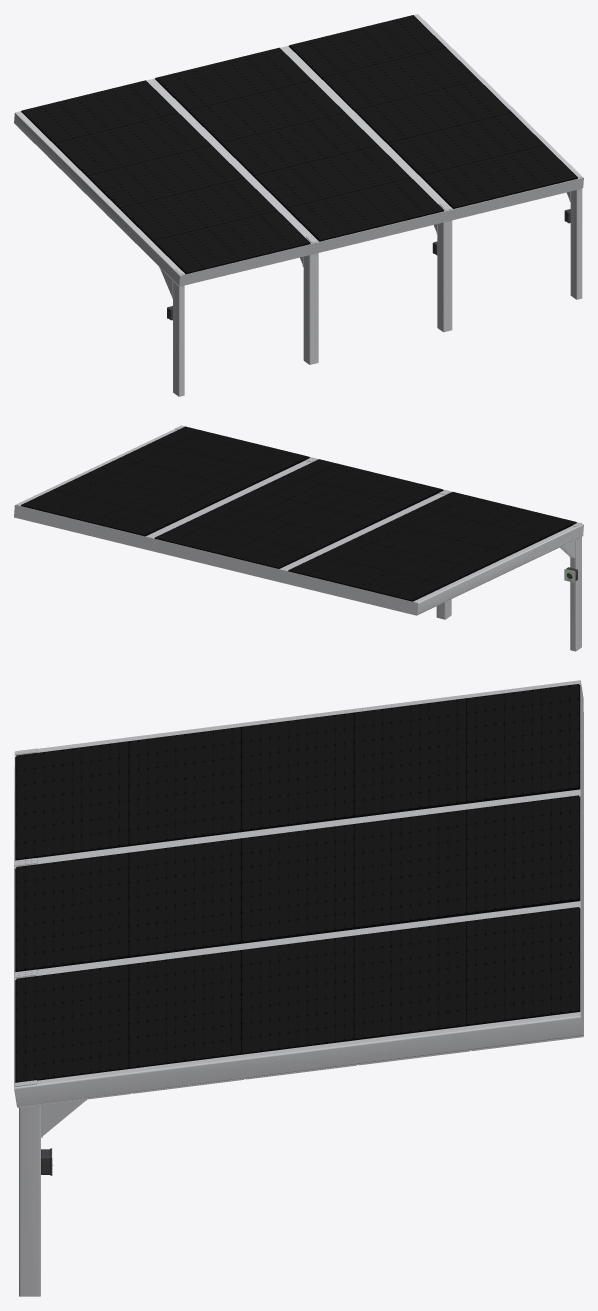
Rendered from Cap_3.glb.
The picture shows the model from 3 angles, top to bottom: view 1: azimuth 30°, elevation 25°; view 2: azimuth 150°, elevation 25°; view 3: azimuth 270°, elevation 25°; orthographic projection. The views are drawn at different scales.
Parts seen in each view (by area): view 1: Left.083, Middle.045, Middle.041, Right.010; view 2: Left.083, Middle.041, Middle.045, Right.010; view 3: Middle.045, Middle.041, Left.083, Right.010.
Boxes of the visible parts, x1,y1,x2,y2 form: Left.083: (14,80,315,396); Middle.045: (280,14,583,332); Middle.041: (146,47,449,364); Right.010: (414,14,582,299); Left.083: (281,492,583,651); Middle.041: (147,459,451,619); Middle.045: (14,426,317,550); Right.010: (16,425,184,505); Middle.045: (14,901,583,1107); Middle.041: (14,789,583,976); Left.083: (14,680,583,864); Right.010: (14,1012,583,1296).
Size of the model in its own units: 8.07 by 3.11 by 5.7.
5 materials, 5 textured.
